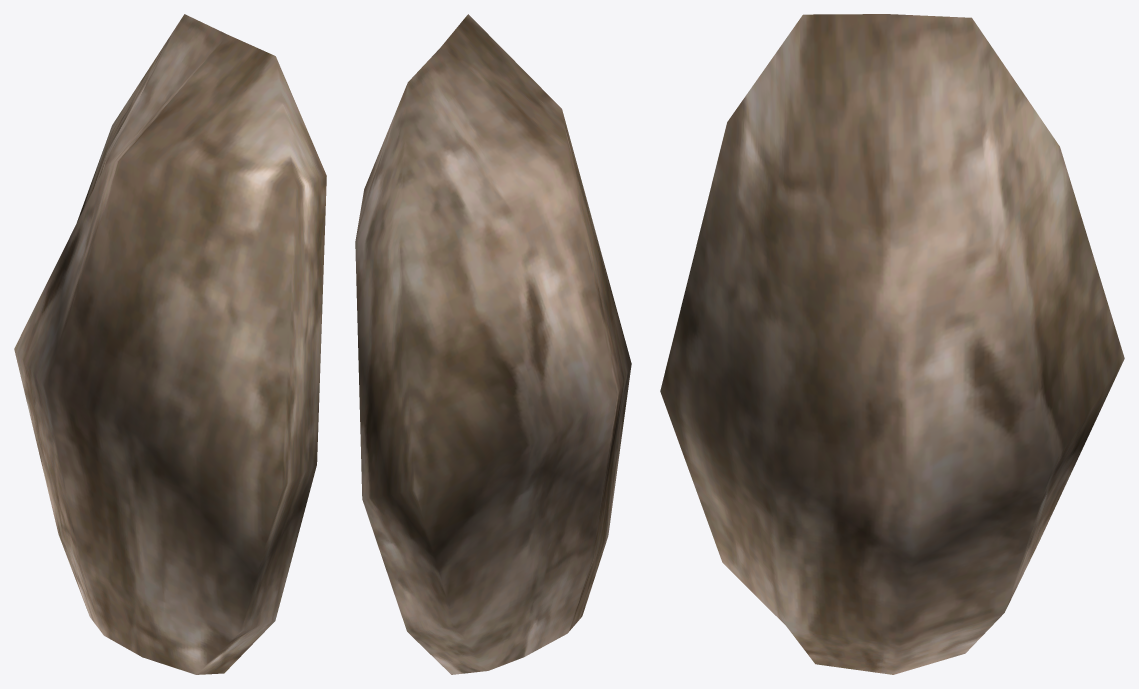
The model's file is OVERHILL_A_01_ROCK89.fbx.
The picture shows the model from 3 angles, left to right: view 1: azimuth 30°, elevation 25°; view 2: azimuth 150°, elevation 25°; view 3: azimuth 270°, elevation 25°; orthographic projection. The views are drawn at different scales.
Parts seen in each view (by area): view 1: OVERHILL_A_01_ROCK89; view 2: OVERHILL_A_01_ROCK89; view 3: OVERHILL_A_01_ROCK89.
Boxes of the visible parts, x1,y1,x2,y2 form: OVERHILL_A_01_ROCK89: [14, 14, 326, 674]; OVERHILL_A_01_ROCK89: [355, 14, 631, 674]; OVERHILL_A_01_ROCK89: [660, 14, 1124, 674].
Bounding box in the file's own units: 11793 × 27172 × 16838.
1 material, 1 textured.
